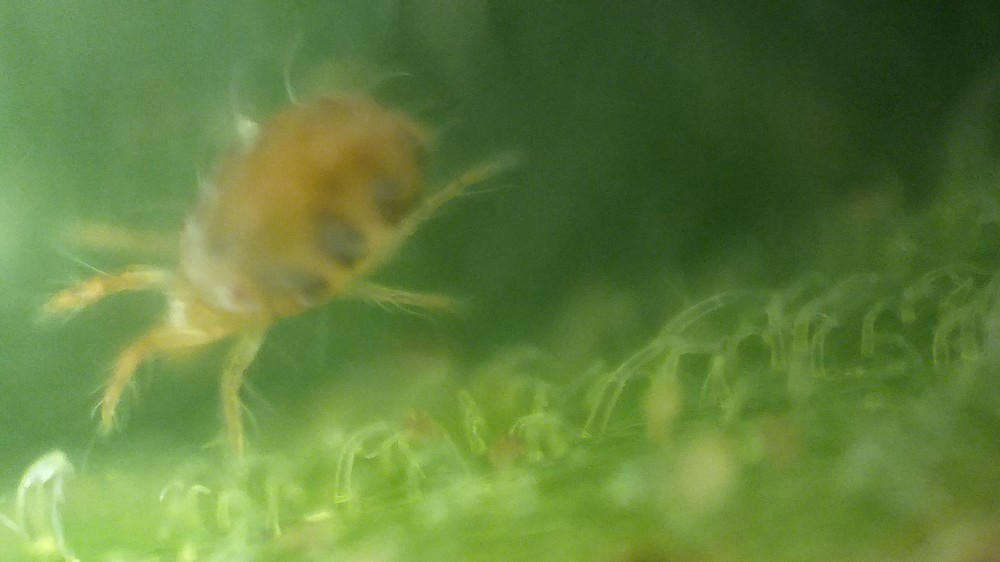Aracnido Rojo: (33, 46, 578, 461)
